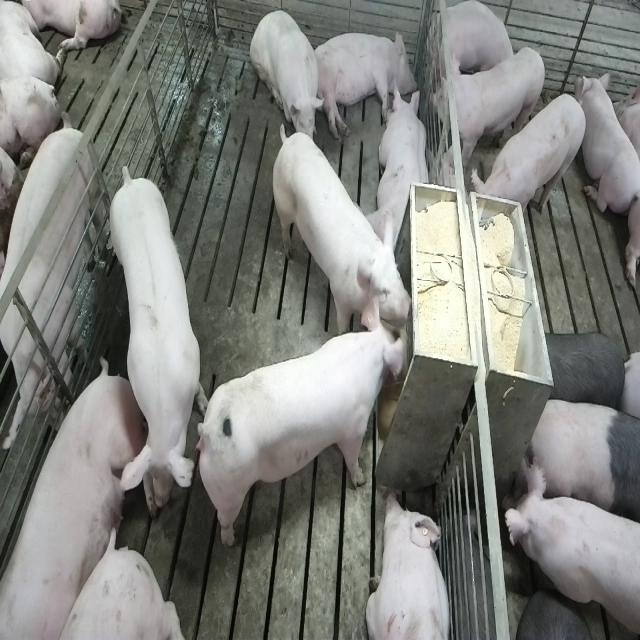Feeding: (198, 312, 408, 549), (269, 125, 412, 345)
Lateral_lying: (3, 360, 163, 636), (311, 27, 418, 142)
Sitting: (250, 8, 326, 151)
Standing: (109, 162, 207, 518), (0, 110, 102, 430), (500, 460, 638, 640), (473, 92, 588, 237), (519, 398, 638, 532)
Sternal_lying: (368, 490, 455, 640), (371, 84, 433, 265), (580, 72, 638, 222), (431, 3, 516, 89)
